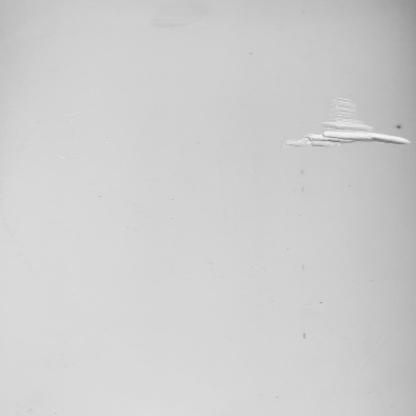sunshang: (282, 93, 410, 153)
